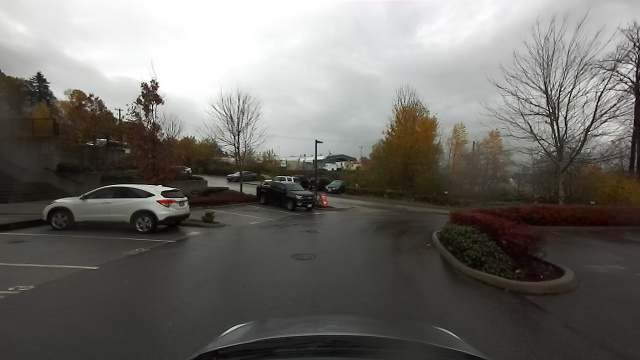car: (39, 182, 193, 232), (258, 176, 318, 216), (226, 168, 258, 185), (322, 176, 343, 193)
